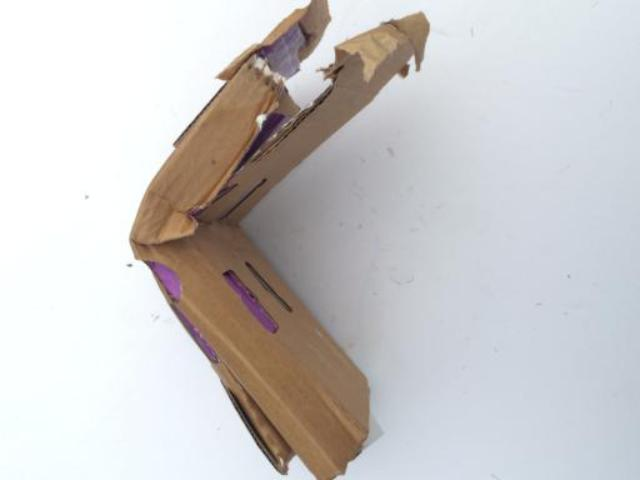cardboard paper: (129, 0, 426, 476)
